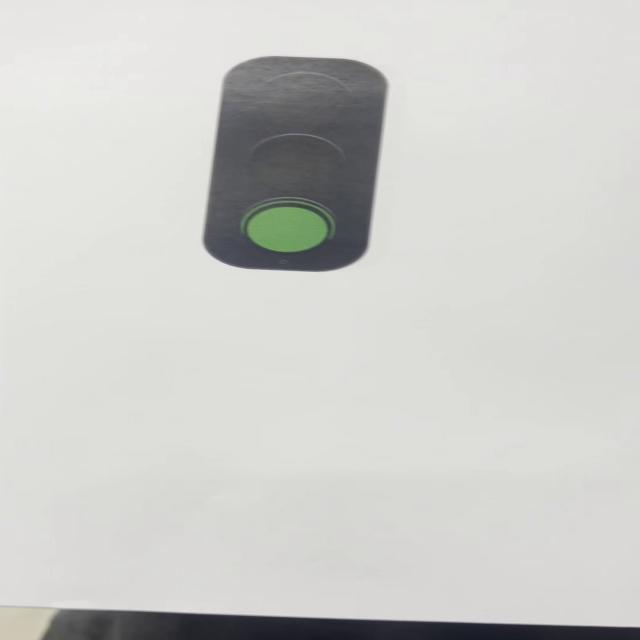green: (203, 57, 391, 273)
